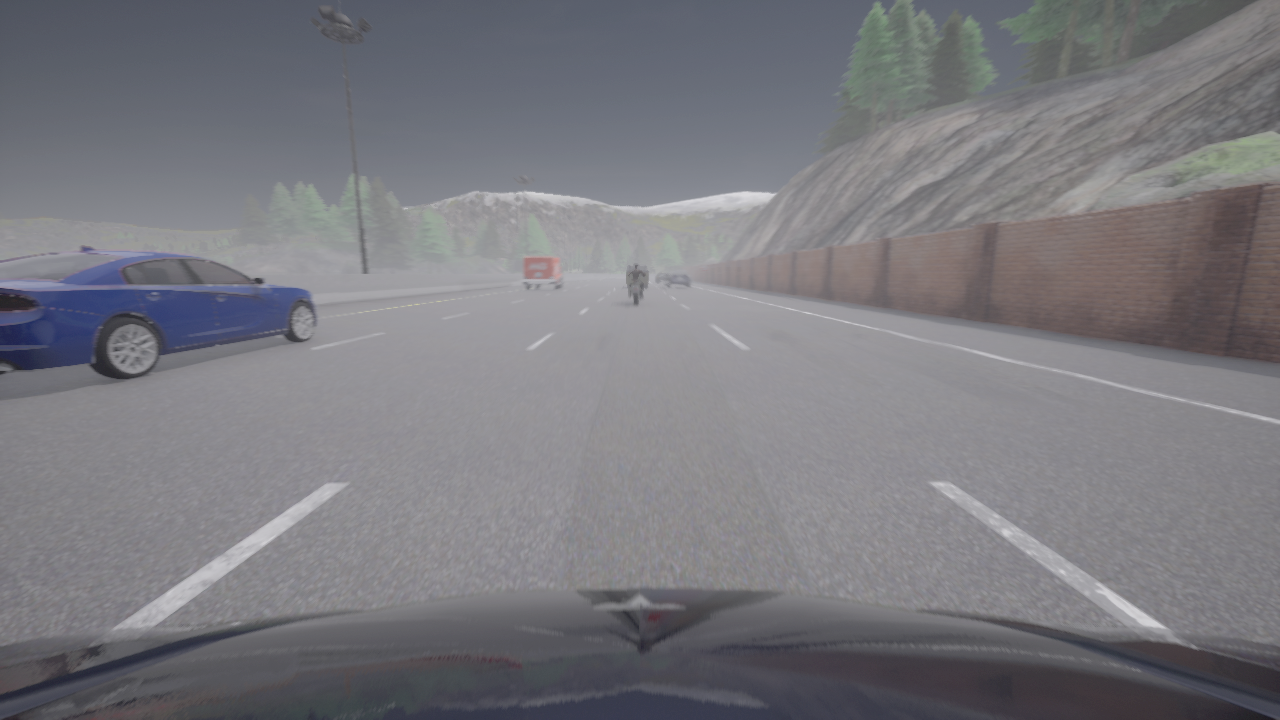cyclist: (0, 588, 1279, 719), (0, 246, 317, 379), (522, 256, 565, 289), (630, 272, 645, 304), (627, 264, 647, 287), (666, 270, 690, 287), (657, 273, 668, 282)
